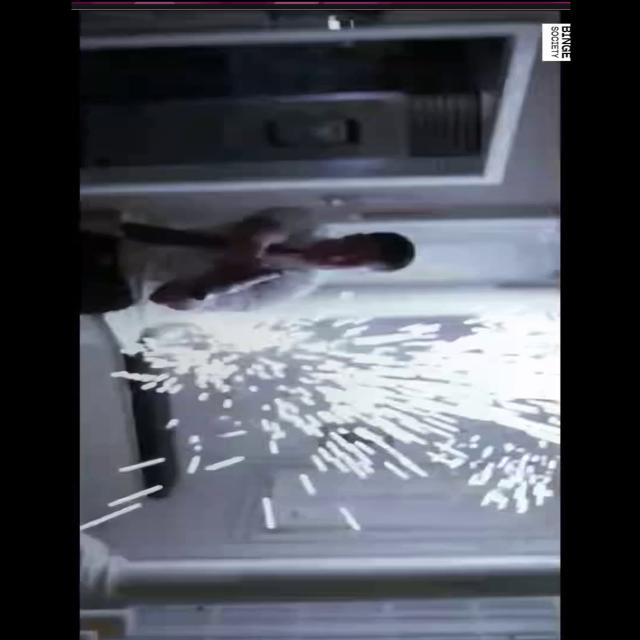weapons: (172, 252, 316, 316)
